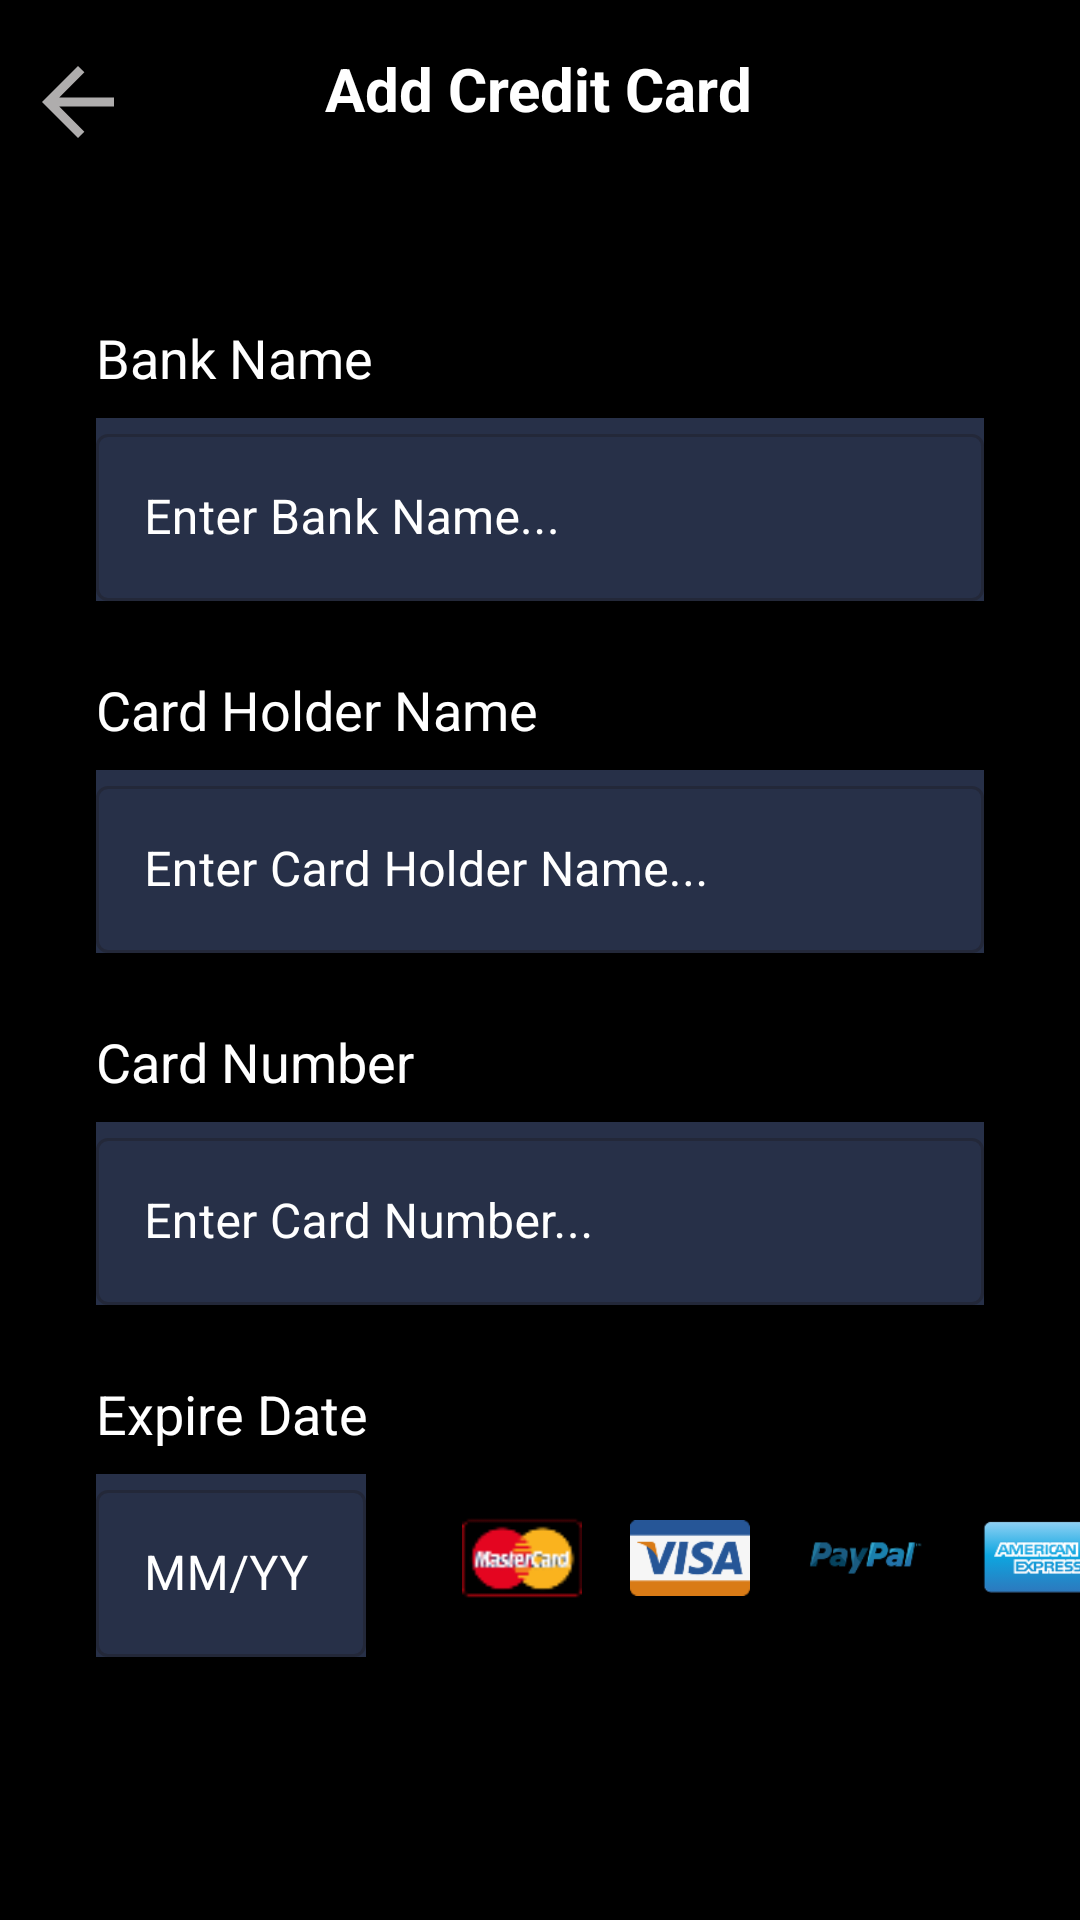

Icons on this 1080×1920 Android screen, each with its box as (x1, y1, x2, y2):
back arrow: (42, 66, 114, 138)
